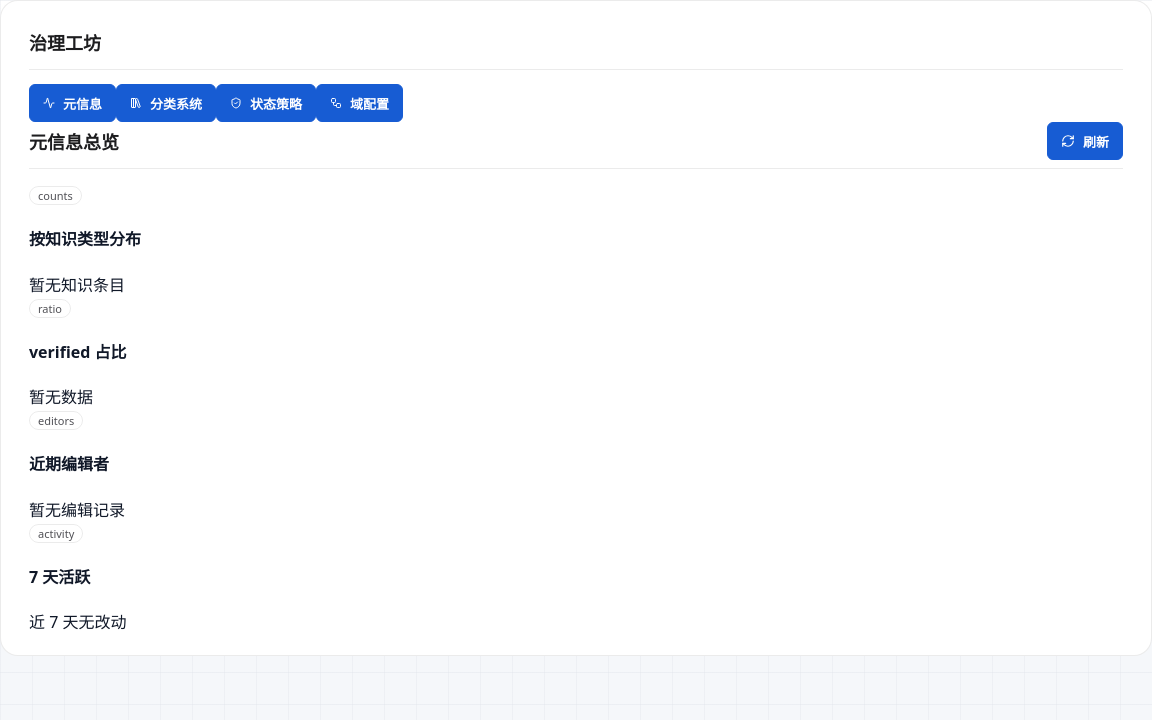
Scenario: 治理工坊 PublishBar 按钮兜色 › 三个按钮各自带兜色 class，无裸 button
The image size is (1152, 720).
Step 1. Click the button "分类系统" → (166,103), box [116, 84, 216, 122]
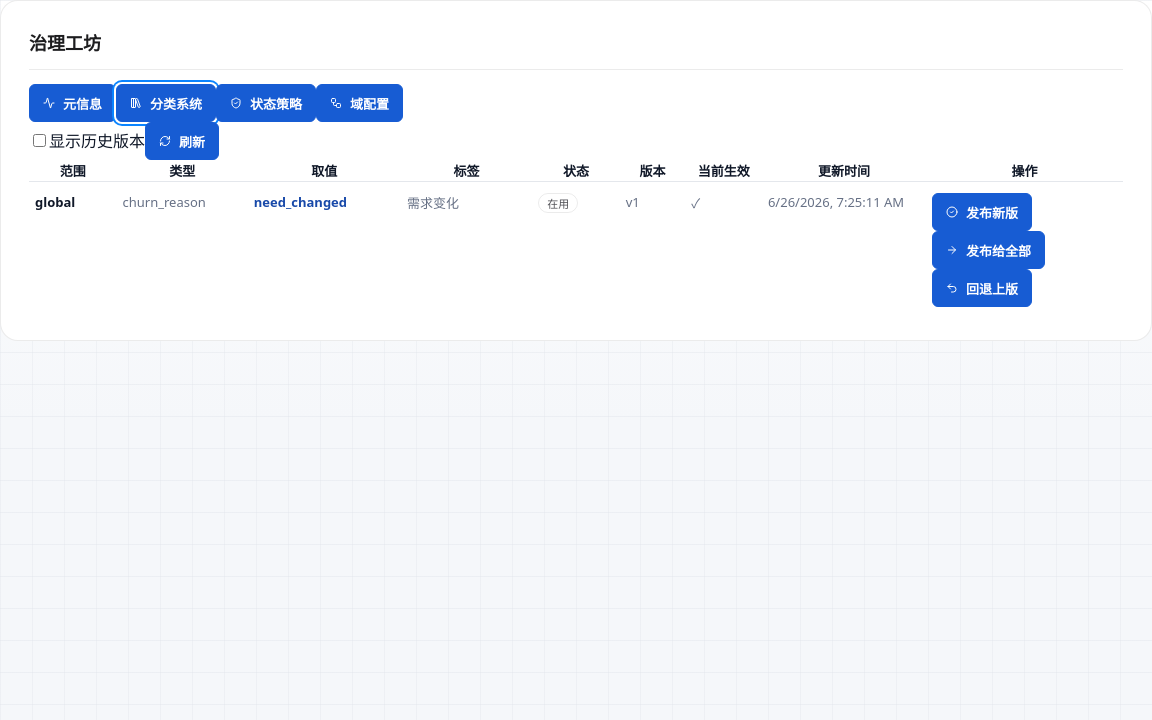
Now the element with class "wikiPublishBar" is shown, box [932, 193, 1045, 307]
